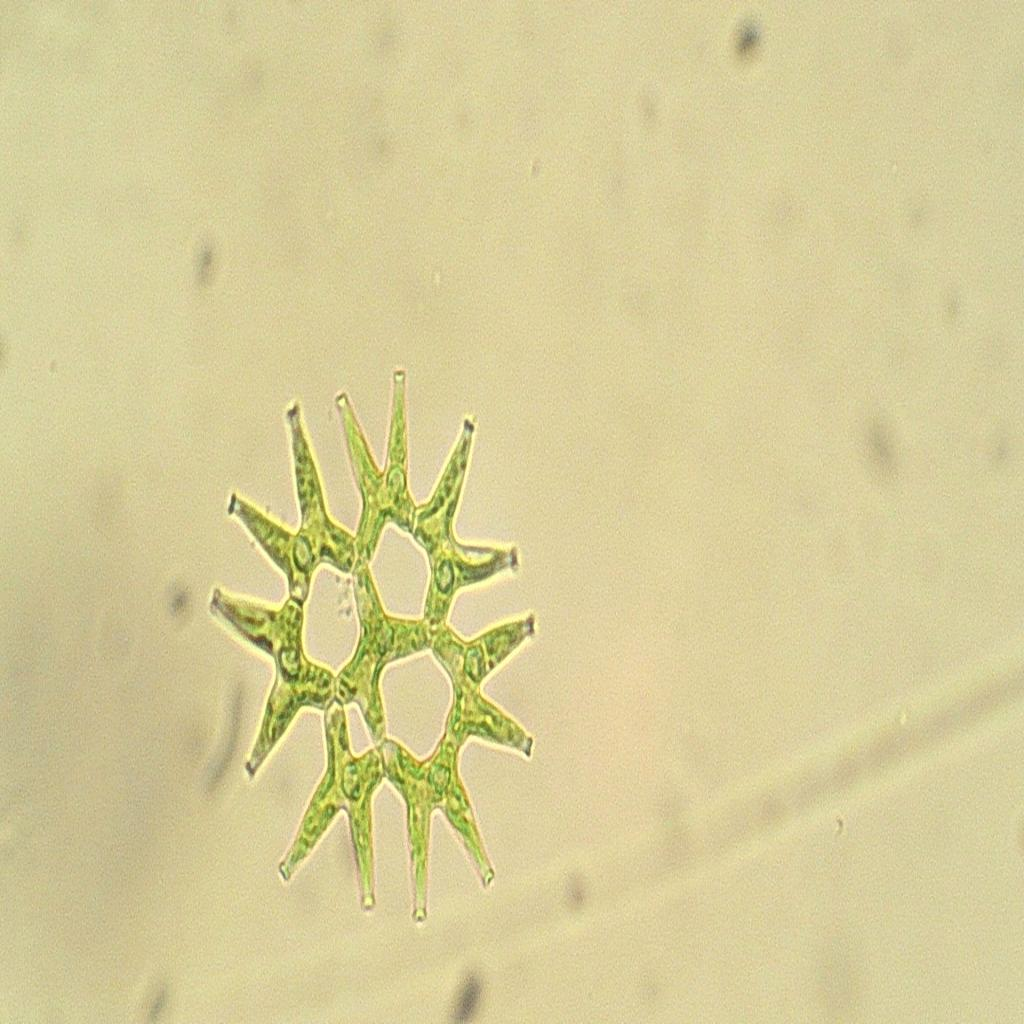Pediastrum_1T: (186, 351, 578, 950)
